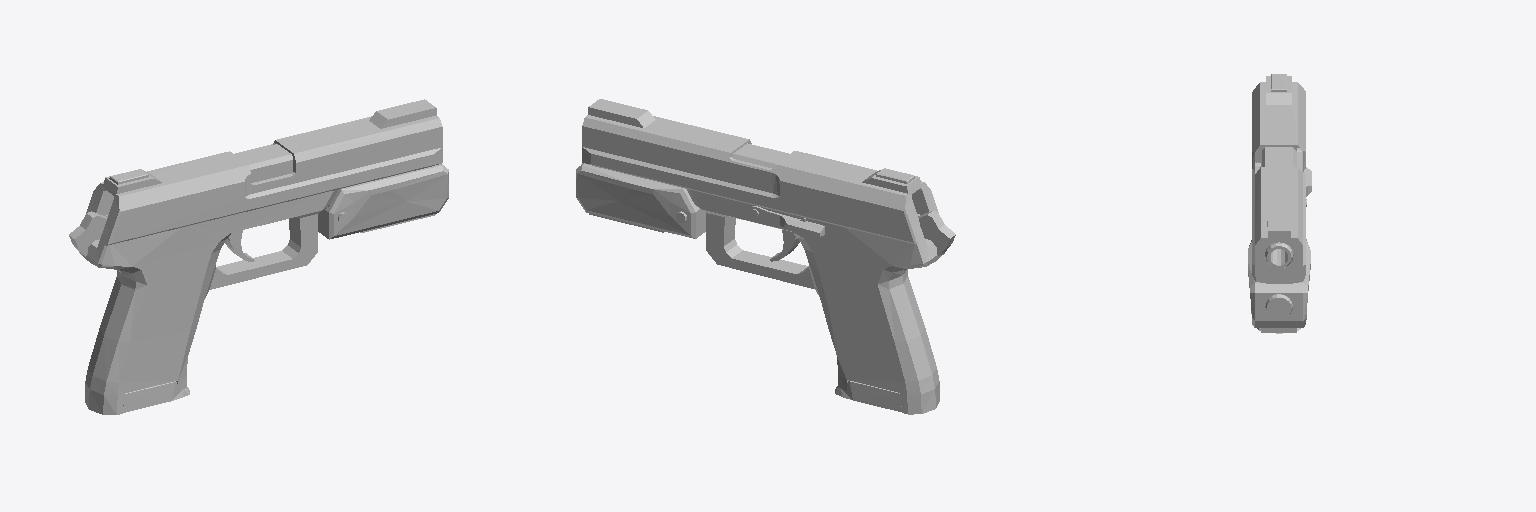
The model's file is pistol2_000017.obj.
3 renders of one model, left to right at view 1: azimuth 30°, elevation 25°; view 2: azimuth 150°, elevation 25°; view 3: azimuth 270°, elevation 25°, orthographic.
Parts seen in each view (by area): view 1: Pistol; view 2: Pistol; view 3: Pistol.
Boxes of the visible parts, x1,y1,x2,y2 form: Pistol: [69, 99, 448, 414]; Pistol: [576, 99, 955, 414]; Pistol: [1248, 74, 1311, 333].
Bounding box in the file's own units: 0.9462 × 0.5497 × 0.1441.